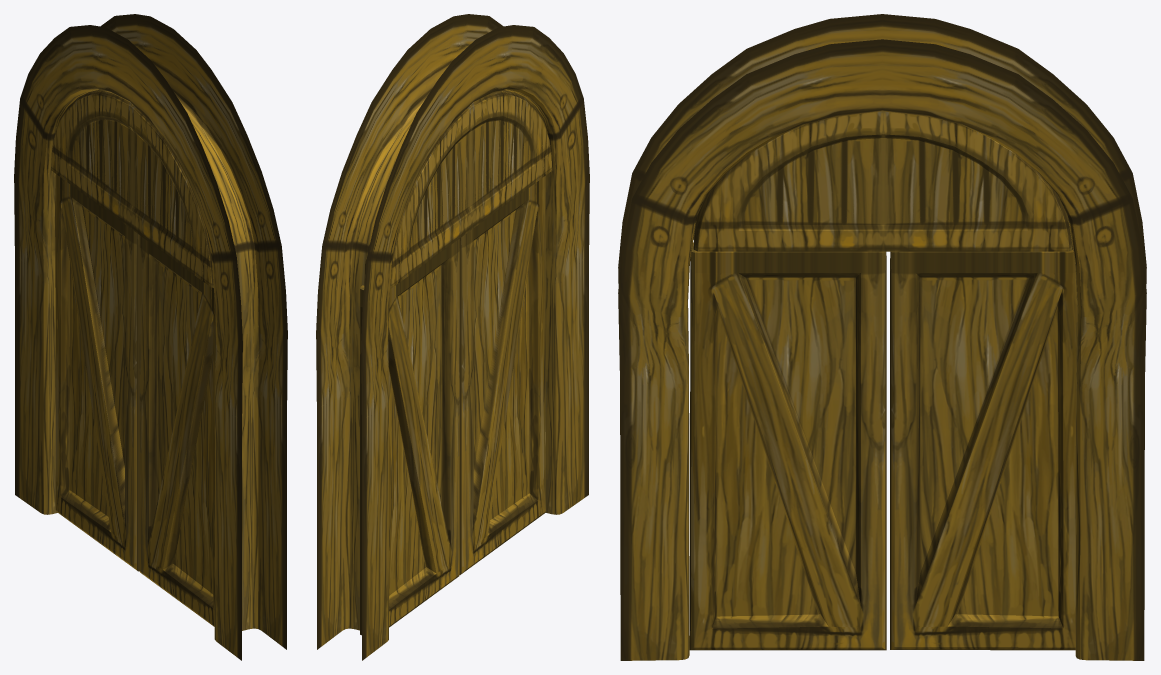
The model's file is DoorC.FBX.
The picture shows the model from 3 angles, left to right: view 1: azimuth 30°, elevation 25°; view 2: azimuth 150°, elevation 25°; view 3: azimuth 270°, elevation 25°; orthographic projection. The views are drawn at different scales.
Visible parts, largest first — view 1: DoorC_Frame, DoorC_L, DoorC_R, DoorC_Tr; view 2: DoorC_Frame, DoorC_R, DoorC_L, DoorC_Tr; view 3: DoorC_Frame, DoorC_R, DoorC_L, DoorC_Tr.
Part boxes in pixels (x1,y1,x2,y2): DoorC_Frame: [14, 14, 287, 660]; DoorC_L: [55, 174, 139, 571]; DoorC_R: [139, 235, 215, 626]; DoorC_Tr: [51, 89, 213, 287]; DoorC_Frame: [316, 14, 589, 660]; DoorC_R: [459, 176, 545, 574]; DoorC_L: [359, 239, 459, 635]; DoorC_Tr: [365, 90, 552, 288]; DoorC_Frame: [618, 14, 1146, 660]; DoorC_R: [689, 242, 886, 650]; DoorC_L: [890, 250, 1076, 650]; DoorC_Tr: [693, 111, 1072, 251].
Size of the model in its own units: 0.1953 by 1.72 by 2.23.
